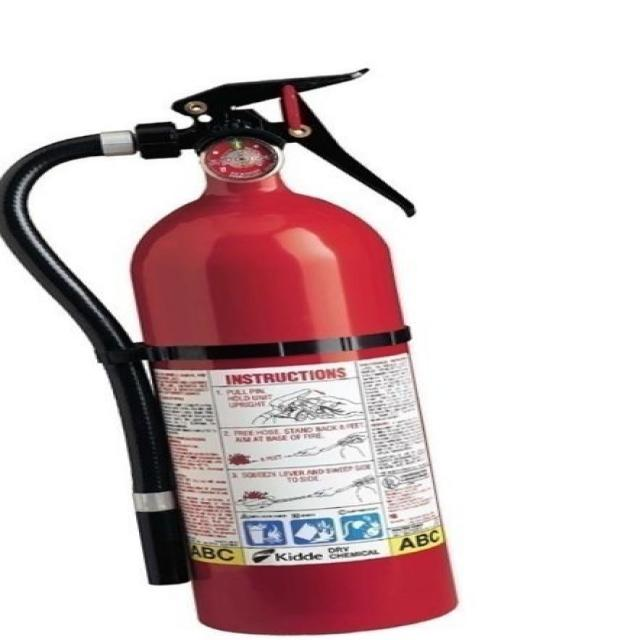fire_extinguisher: (0, 63, 466, 640)
